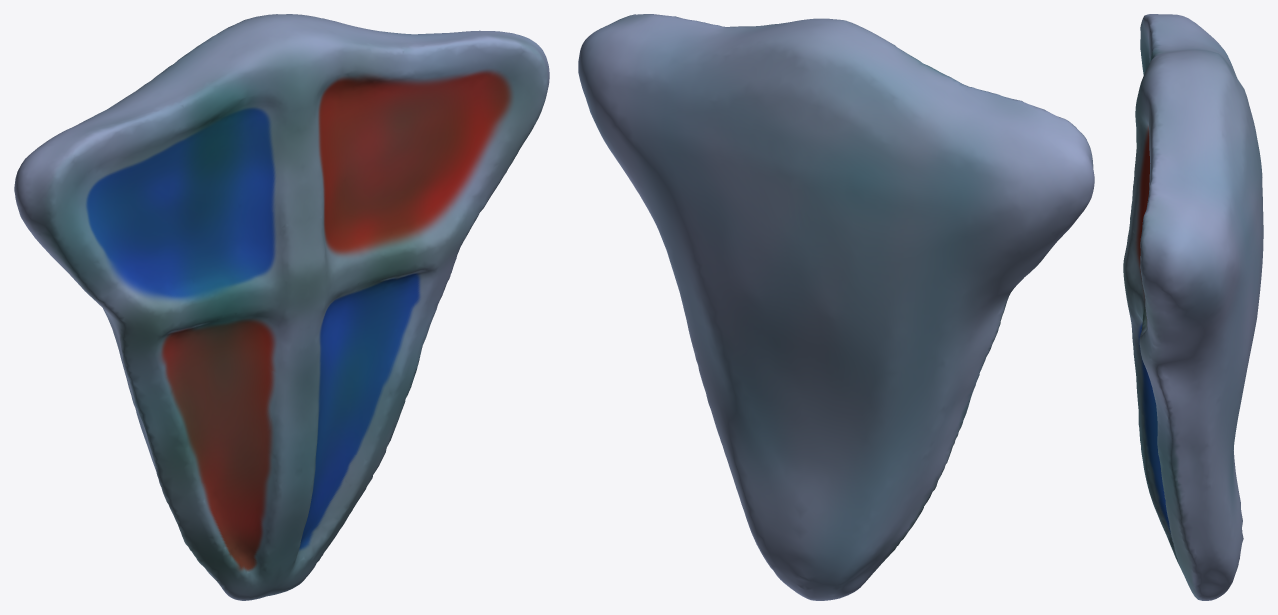
Rendered from shield.obj.
3 views of the same model, side by side, from view 1: azimuth 30°, elevation 25°; view 2: azimuth 150°, elevation 25°; view 3: azimuth 270°, elevation 25° (orthographic). The views are drawn at different scales.
Visible parts, largest first — view 1: shield; view 2: shield; view 3: shield.
Boxes of the visible parts, x1,y1,x2,y2 form: shield: (14, 14, 549, 600); shield: (578, 14, 1094, 600); shield: (1123, 14, 1263, 600).
Size of the model in its own units: 3.26 by 3.42 by 0.8187.
